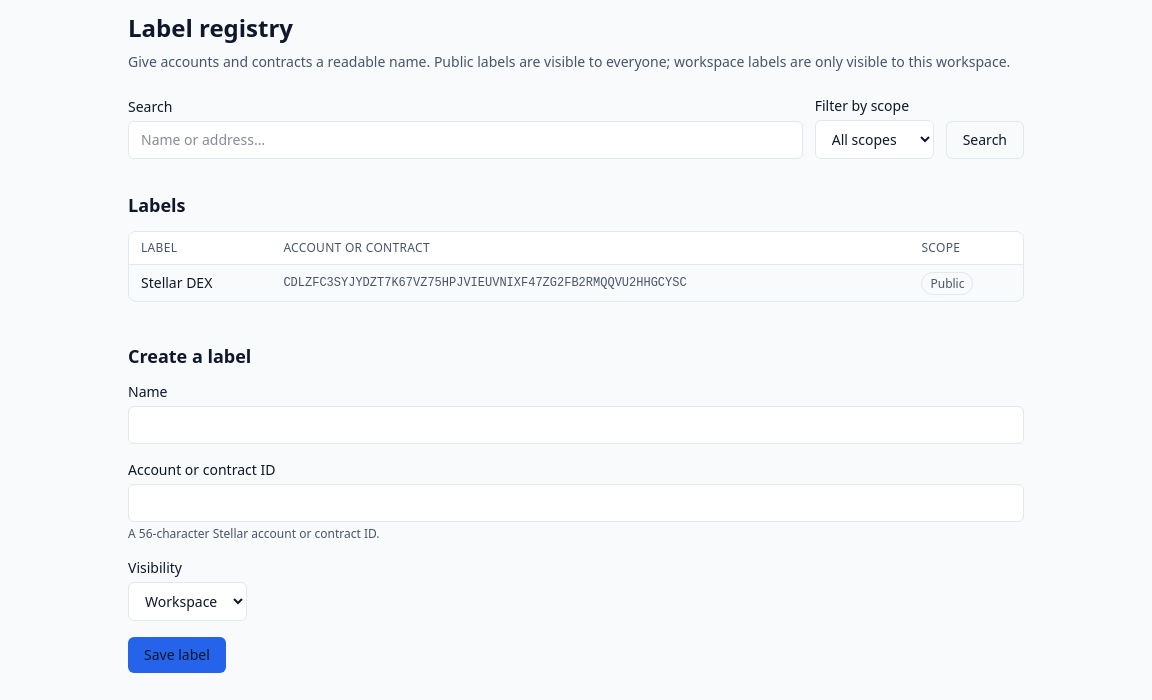
Test: Label registry page › reports a failed creation instead of swallowing it
The width and height of the screenshot is (1152, 700).
Step 1. Type "DEX" into the field labelled "Name" → (576, 425), box [128,406,1024,444]
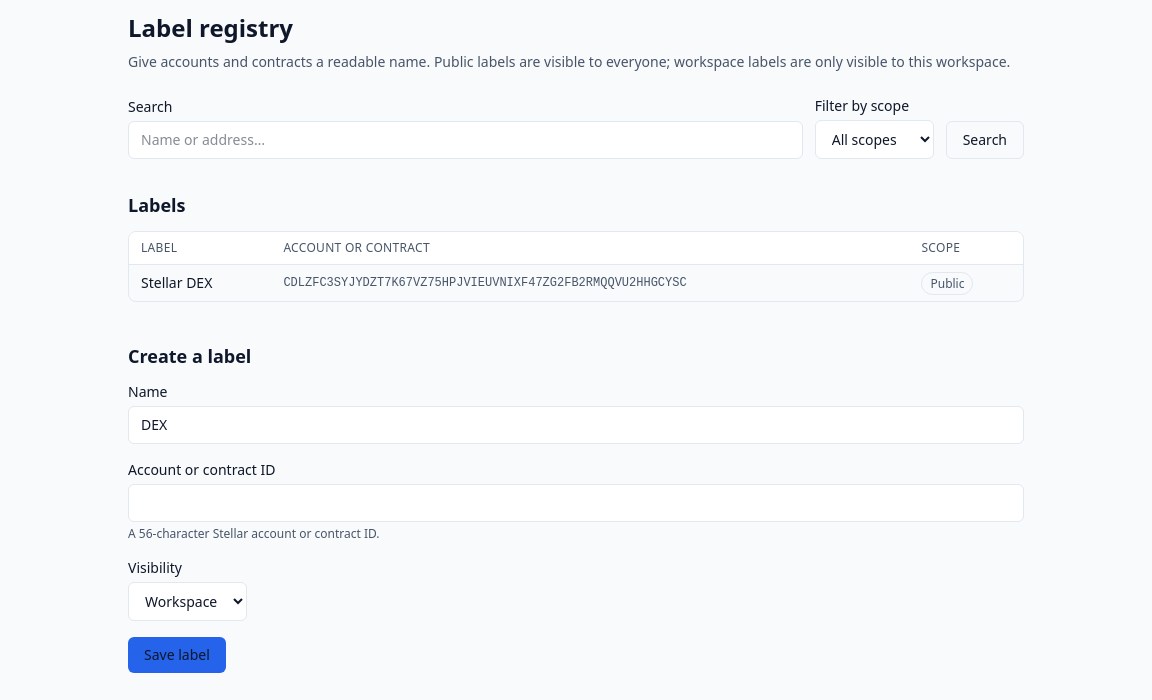
Step 2. Type "CDLZFC3SYJYDZT7K67VZ75HPJVIEUVNIXF47ZG2FB2RMQQVU2HHGCYSC" into the field labelled "Account or contract ID" → (576, 503), box [128,484,1024,522]
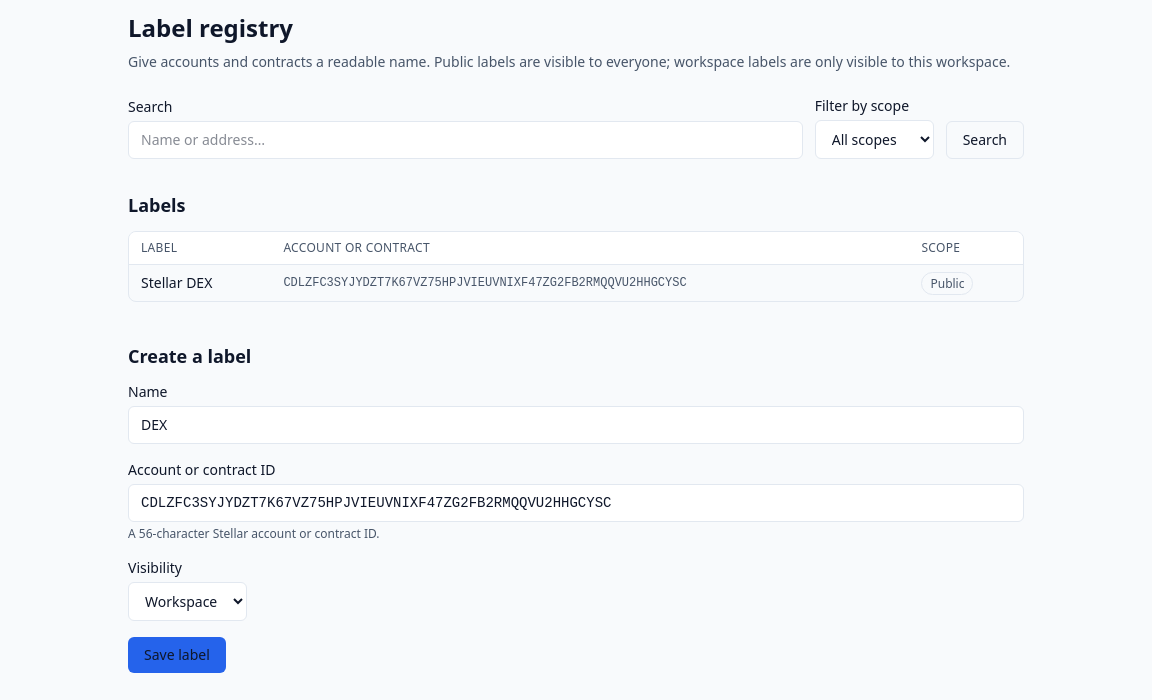
Step 3. Click the button "Save label" → (177, 655), box [128,637,226,673]
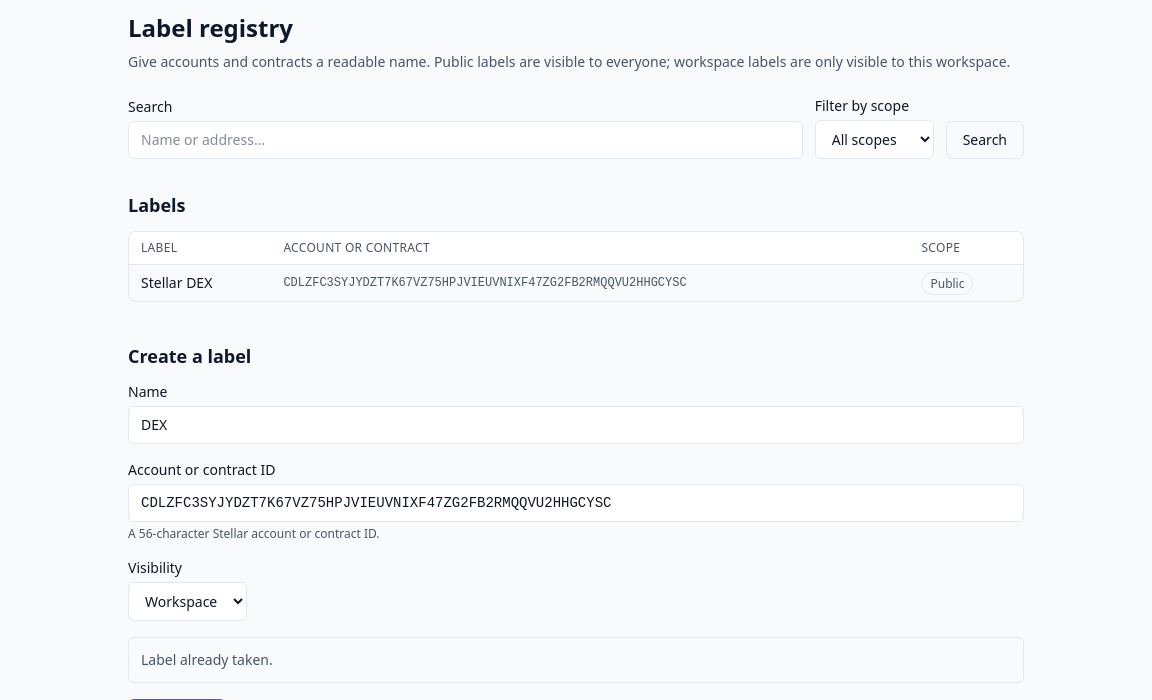
Expected: the text "Label already taken." is shown, [128,637,1024,683]
